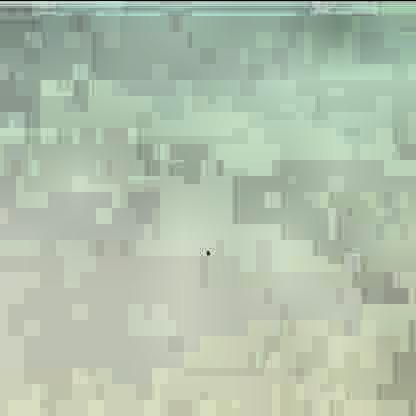golfball: (204, 245, 209, 252)
